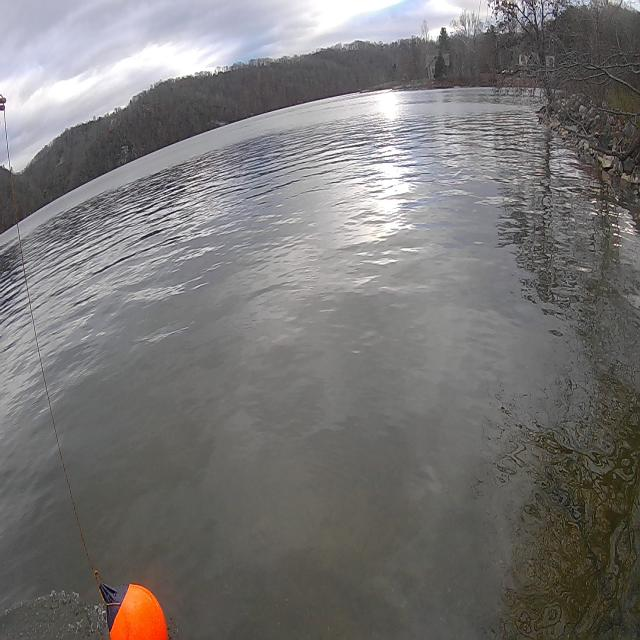Buoy: (107, 576, 170, 640)
